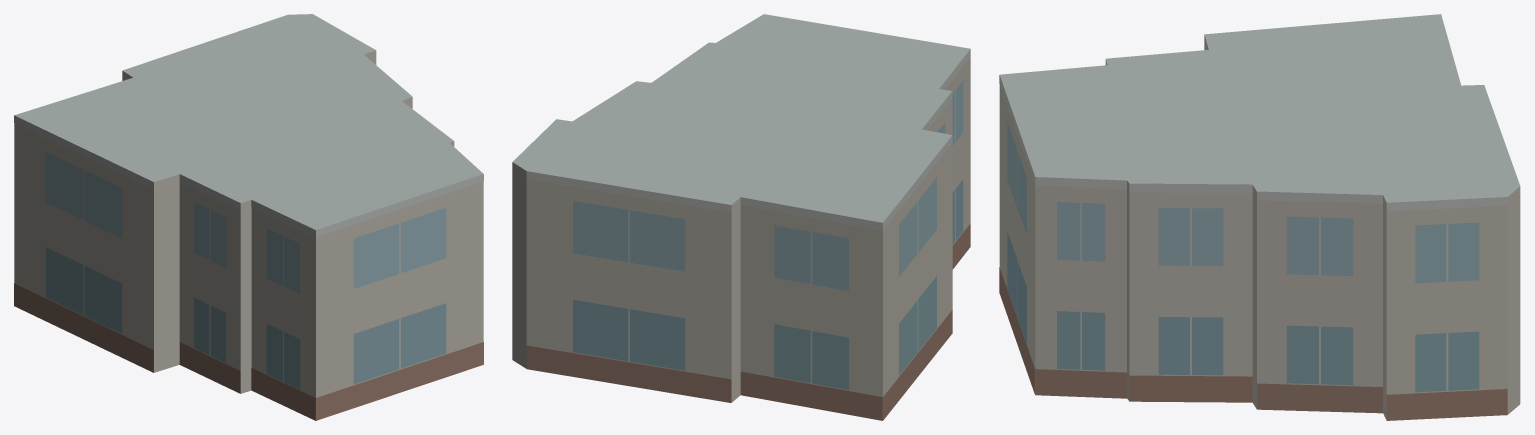
File: survey-upis-32779555.glb
The picture shows the model from 3 angles, left to right: view 1: azimuth 30°, elevation 25°; view 2: azimuth 150°, elevation 25°; view 3: azimuth 270°, elevation 25°; orthographic projection. The views are drawn at different scales.
Parts seen in each view (by area): view 1: survey-upis-32779555.tmp; view 2: survey-upis-32779555.tmp; view 3: survey-upis-32779555.tmp.
Boxes of the visible parts, x1=… form: survey-upis-32779555.tmp: x1=14, y1=14, x2=483, y2=420; survey-upis-32779555.tmp: x1=512, y1=14, x2=970, y2=420; survey-upis-32779555.tmp: x1=999, y1=14, x2=1520, y2=420.
Bounding box in the file's own units: 11.33 × 6.1 × 13.21.
